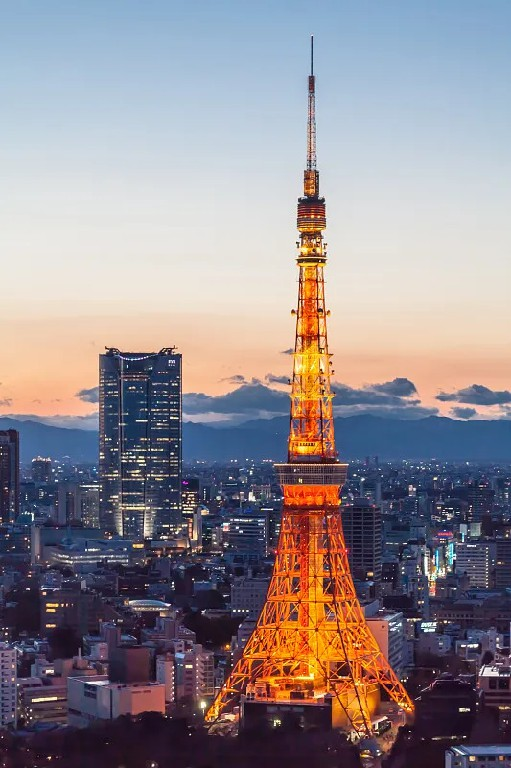Tokyo: (203, 34, 415, 731)
